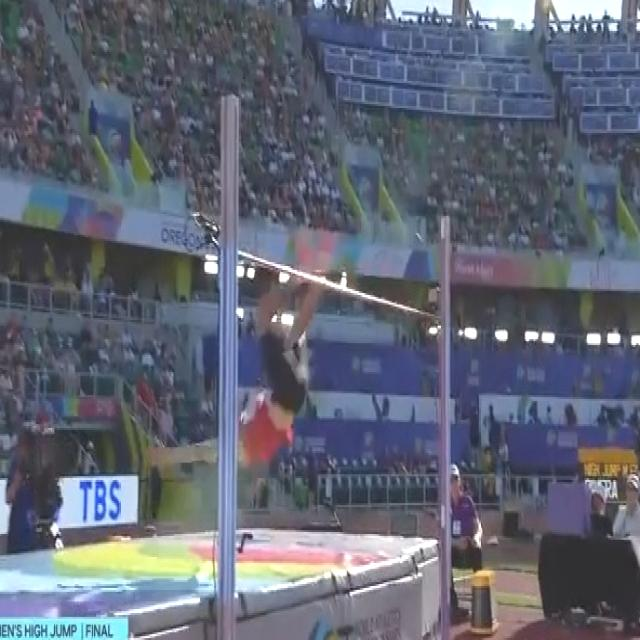land: (145, 227, 333, 471)
